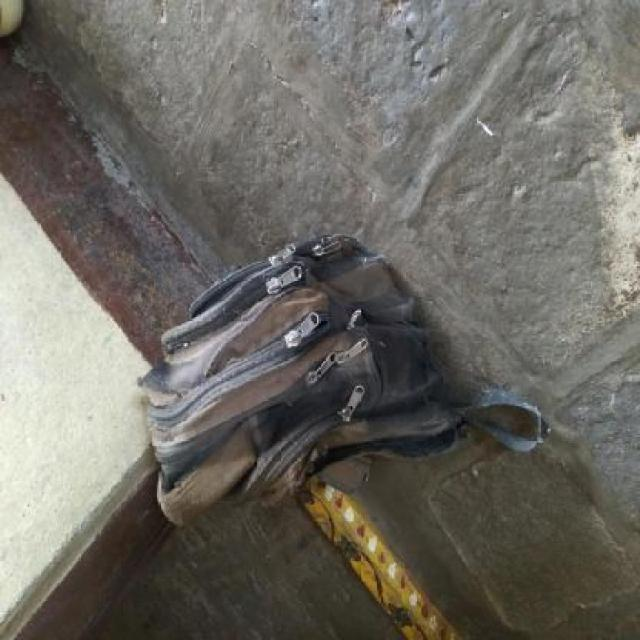backpack: (134, 226, 472, 529)
